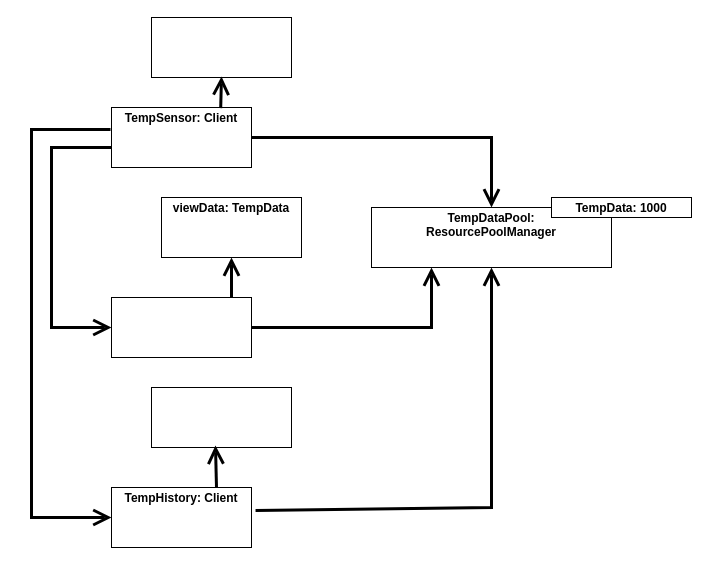
Some shapes in this 709 by 565 pixel diagram are drawn without their labels. Here are the shapes that lost their labels. From the top down, the centre of each, then its label:
pixel 221 47: sourceData: TempData
pixel 181 327: tempView: Client
pixel 221 417: storicalData: TempData
